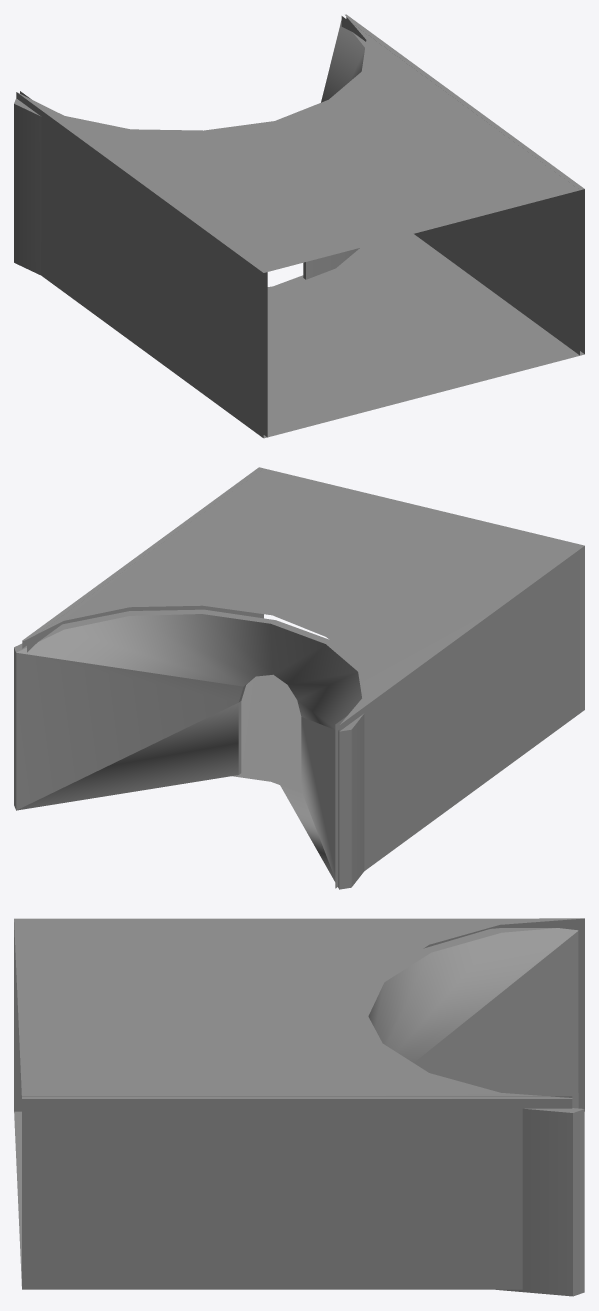
Rendered from Dest_PoisonFactory_Lobby.FBX.
3 views of the same model, one above another, from view 1: azimuth 30°, elevation 25°; view 2: azimuth 150°, elevation 25°; view 3: azimuth 270°, elevation 25° (orthographic). The views are drawn at different scales.
Parts seen in each view (by area): view 1: Object005; view 2: Object005; view 3: Object005.
Part boxes in pixels (bbox=[...]): Object005: bbox=[14, 14, 584, 438]; Object005: bbox=[14, 467, 584, 889]; Object005: bbox=[14, 918, 584, 1296].
Bounding box in the file's own units: 157 × 73.83 × 198.
